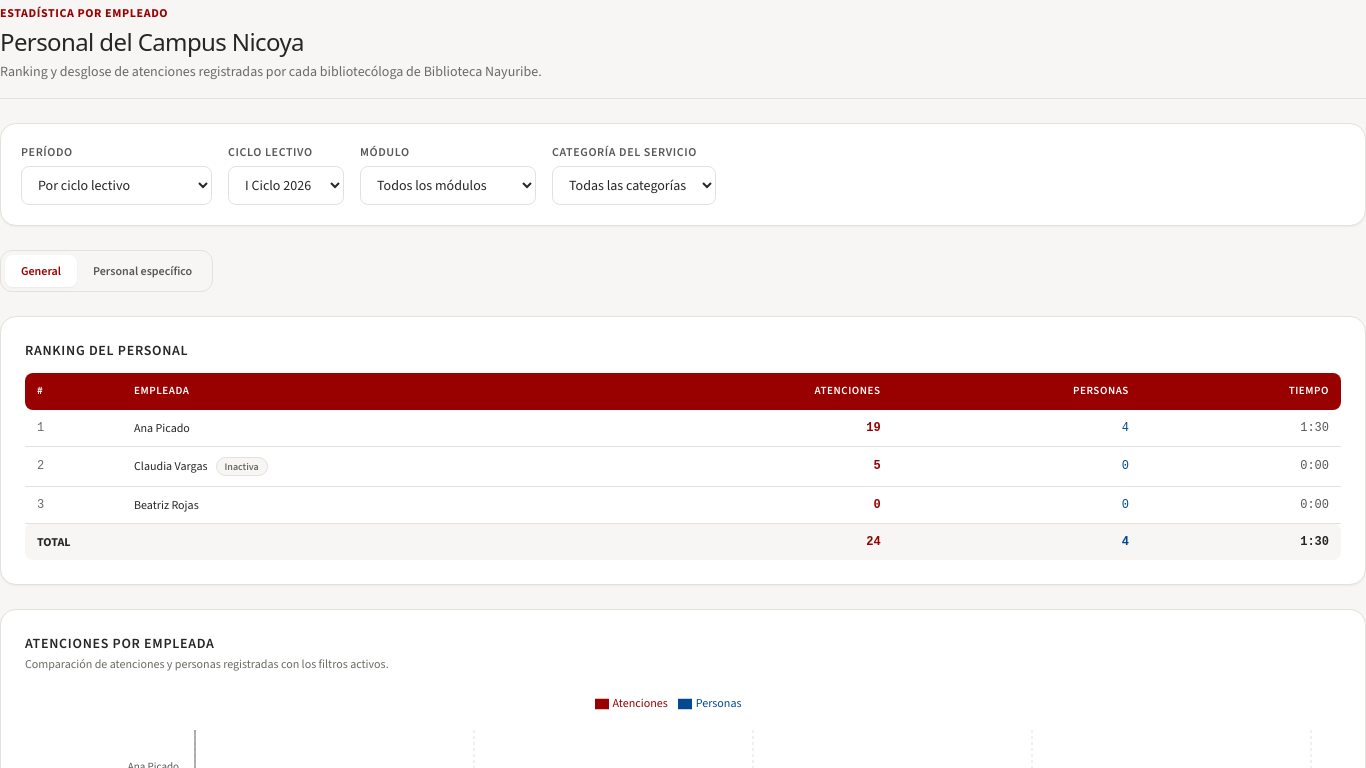
Test: EstadisticasPersonalView (toggle, tarjetas, filtros y estados) › el toggle cambia a Personal específico y selecciona la primera empleada
Expected: the element with test id "panel-ranking" is shown, [0,316,1365,585]
Click the button with test id "toggle-personal".
click(143, 271)  # box [77,255,208,287]
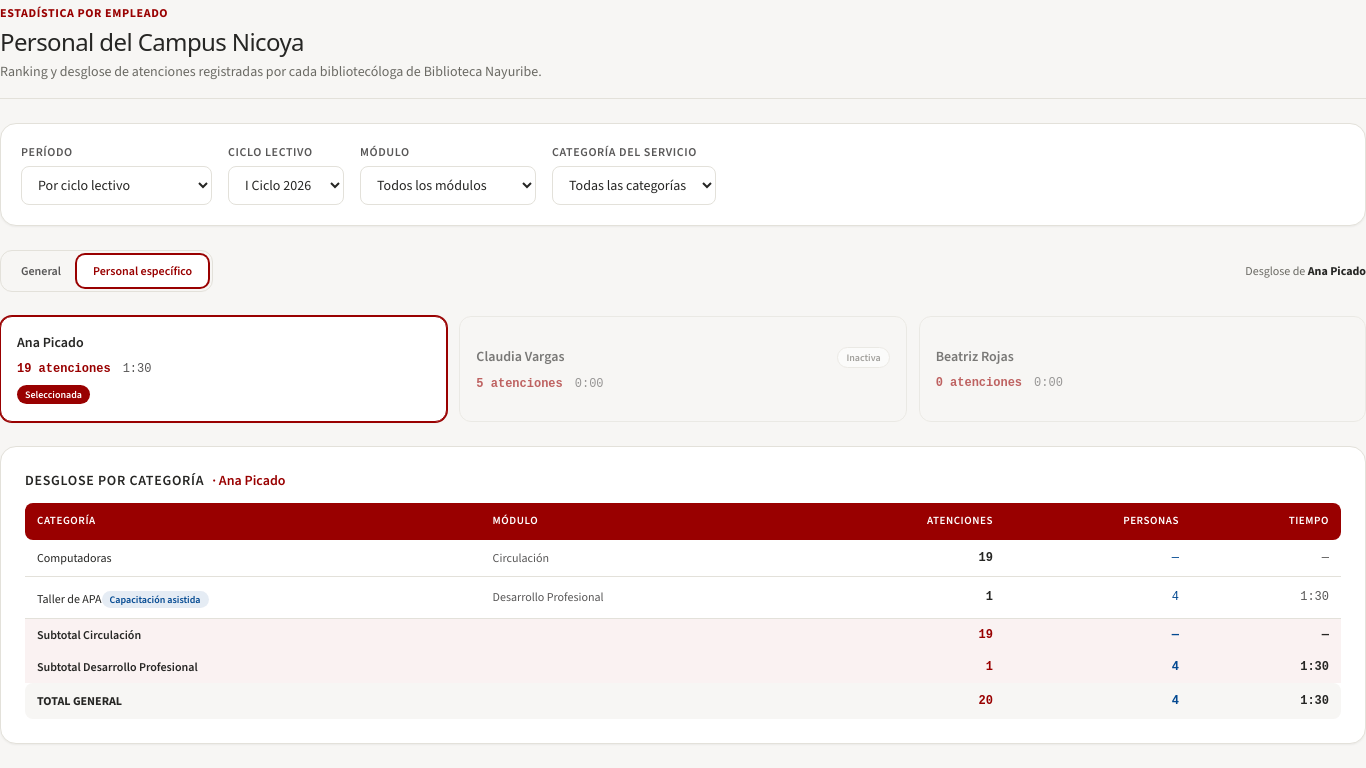
Expected: the element with test id "tarjetas-personal" is shown, [0,316,1365,422]
Expected: the element with test id "panel-desglose" is shown, [0,446,1365,744]
